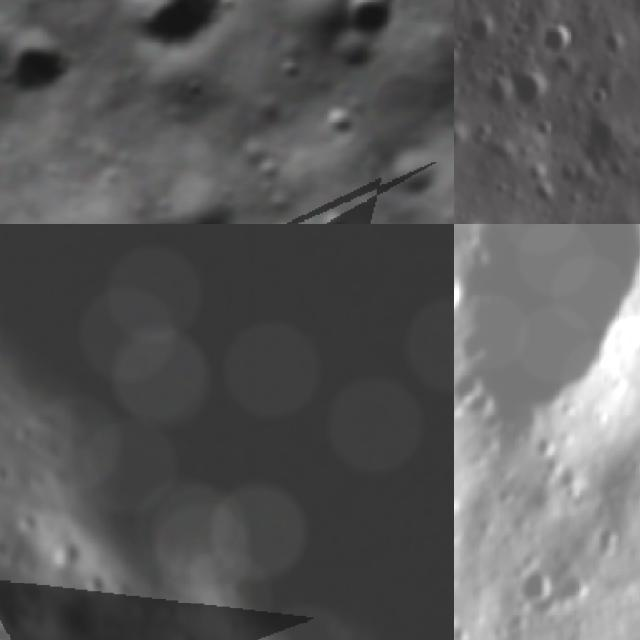crater: (454, 224, 640, 433), (88, 0, 254, 75), (0, 3, 92, 115), (374, 130, 454, 213), (326, 0, 410, 42), (313, 90, 371, 146), (585, 113, 633, 164), (504, 67, 553, 109), (303, 189, 360, 224), (540, 15, 582, 61), (518, 562, 556, 604), (468, 11, 502, 54), (527, 432, 560, 468), (556, 462, 586, 496), (596, 520, 625, 554), (588, 81, 612, 112), (454, 33, 465, 80), (208, 629, 254, 640)
